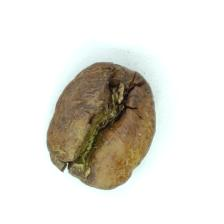NG: (57, 71, 130, 178)
